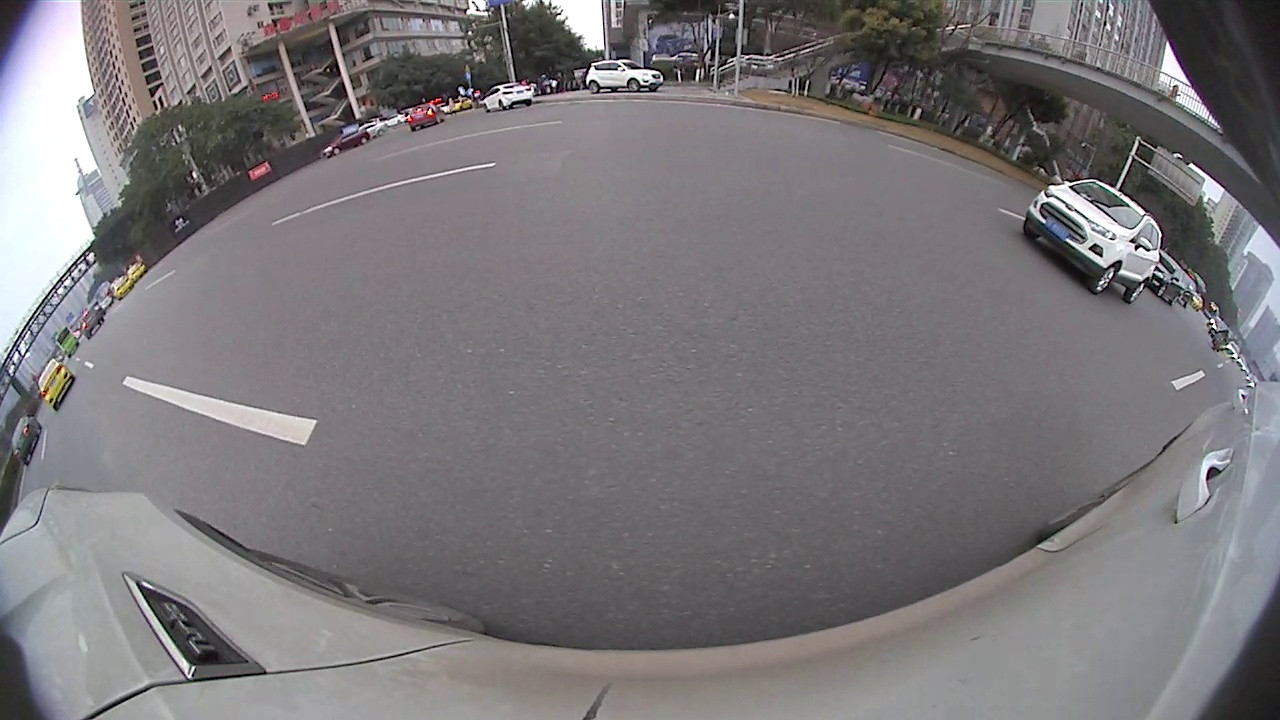car: (1023, 178, 1163, 304), (585, 59, 663, 94), (36, 357, 76, 411), (1152, 250, 1183, 307), (9, 415, 42, 467), (482, 82, 535, 114)
front: (1093, 266, 1120, 295), (627, 79, 639, 93)
rear: (1126, 283, 1145, 301), (588, 83, 597, 93)
